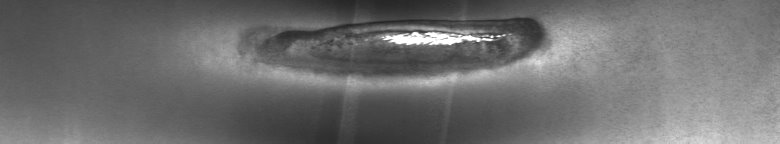ke: (259, 12, 548, 87)
